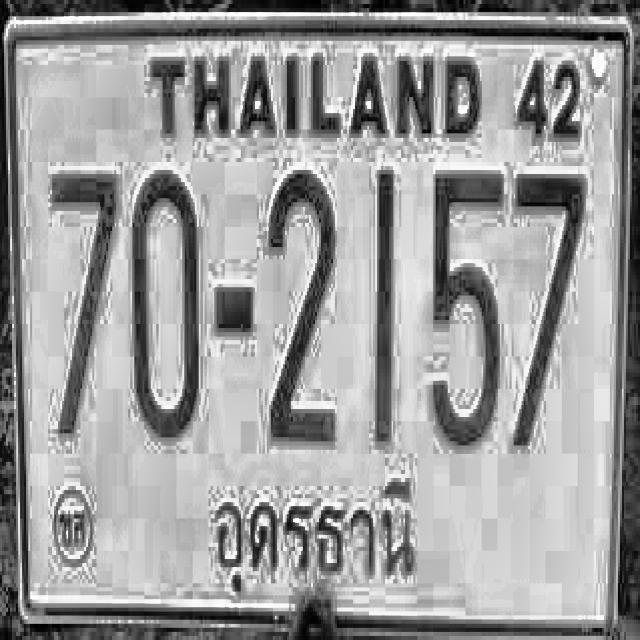license-plate: (0, 11, 640, 634)
